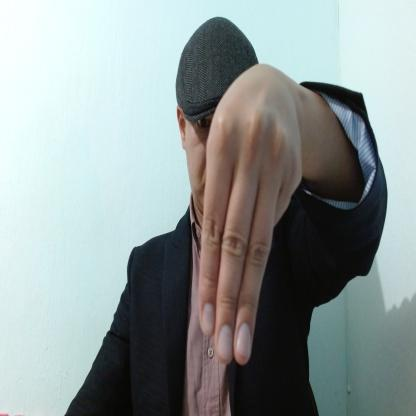M: (199, 65, 305, 367)
